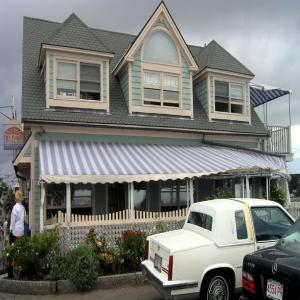Vehicle-registration-plate: (266, 277, 285, 300), (158, 257, 163, 271)
